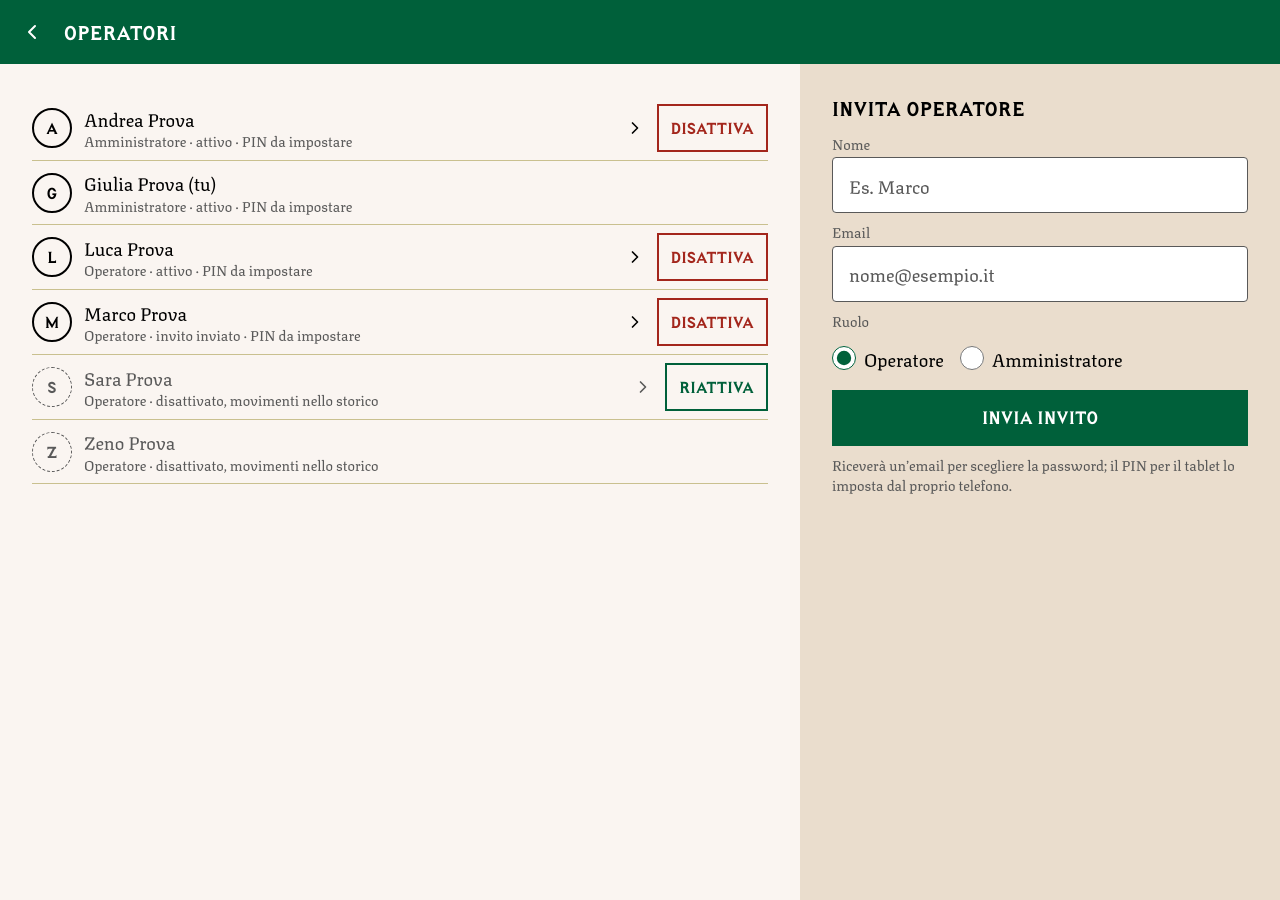
Test case: OperatorDialog: opening it › shows the name as title, the email and the state, the role chosen
Click the button "Luca Prova Operatore · attivo · PIN da impostare" at (129, 247), box [84,233,644,281]
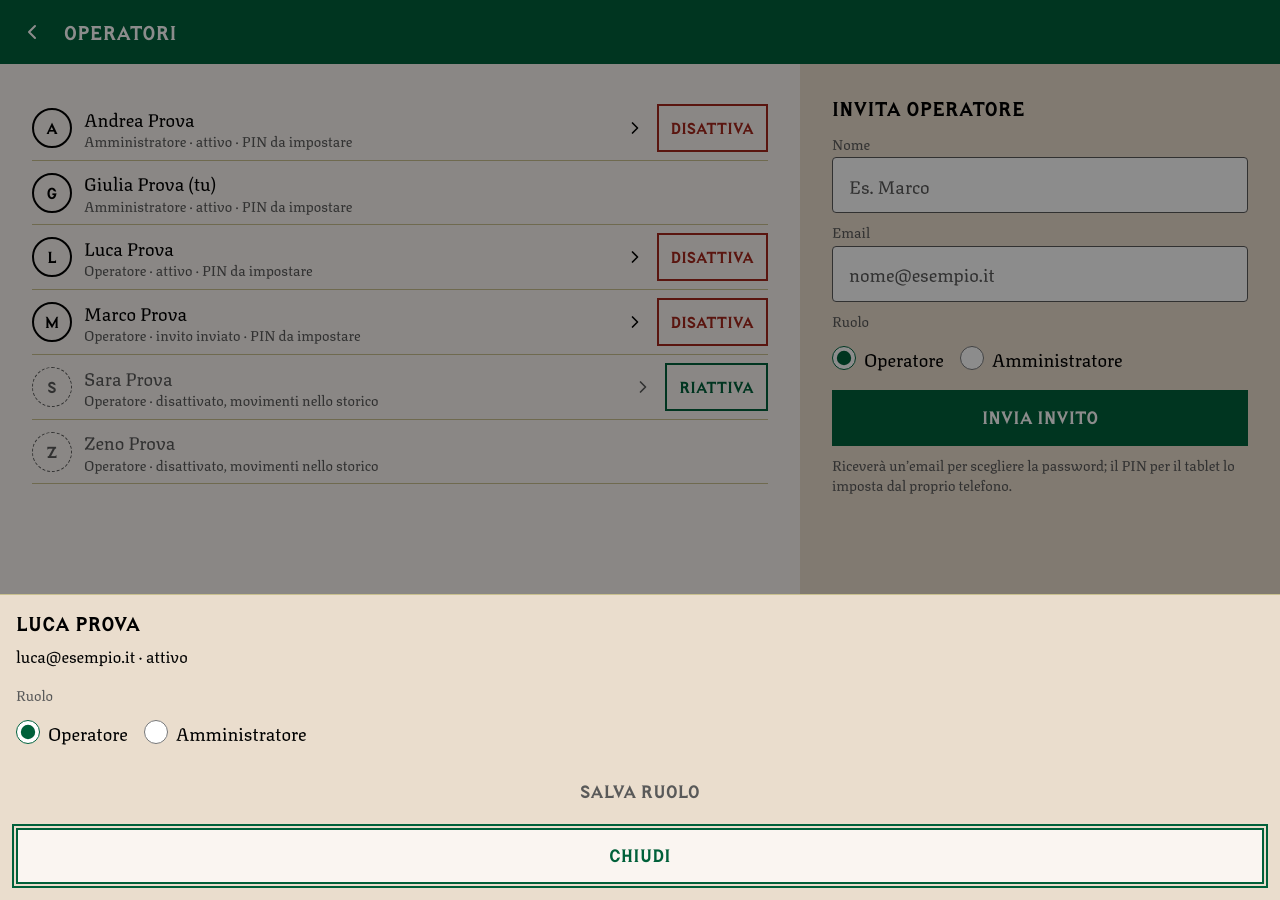
Result: the heading "Luca Prova" is shown at [16,612,140,635]
Result: the radio button labelled "Operatore" is checked at [16,720,40,744]
Result: the radio button labelled "Amministratore" is not checked at [144,720,168,744]
